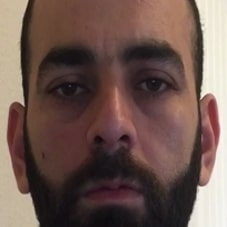awake: (32, 27, 188, 227)
